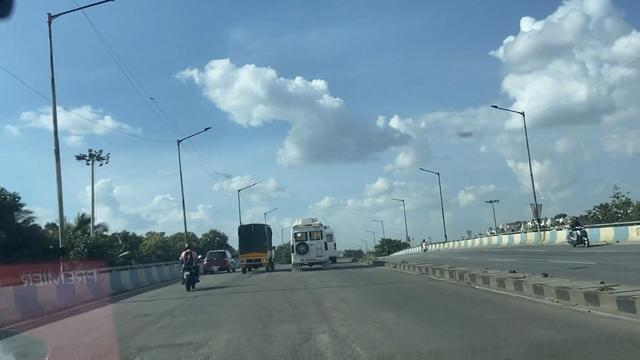HMV: (234, 223, 280, 275), (289, 217, 332, 265)
LMV: (174, 244, 206, 291), (209, 247, 232, 270)
RoadDamages: (111, 309, 354, 360)
